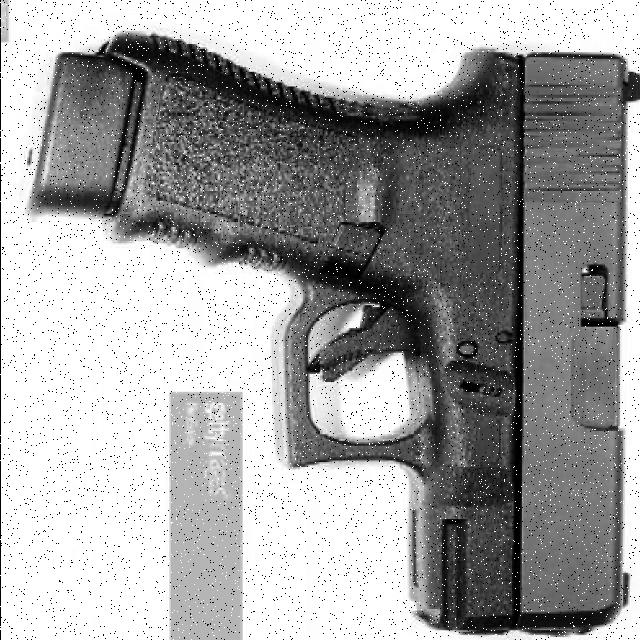Guns: (23, 27, 640, 640)
